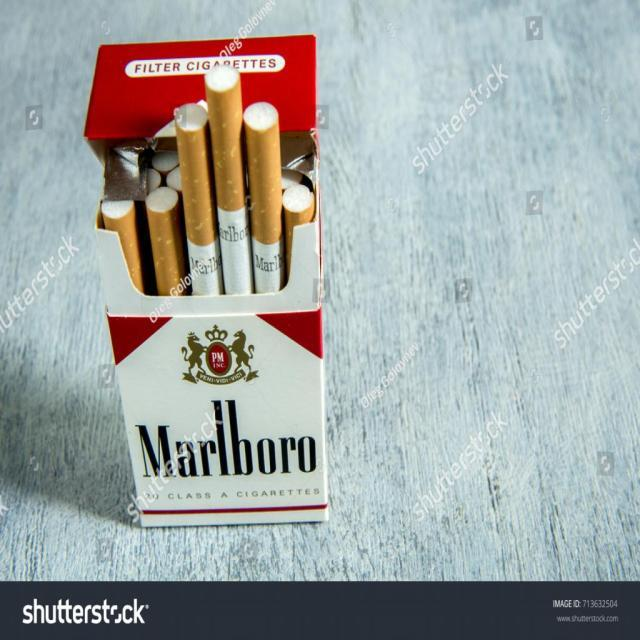smoking: (80, 34, 330, 529)
